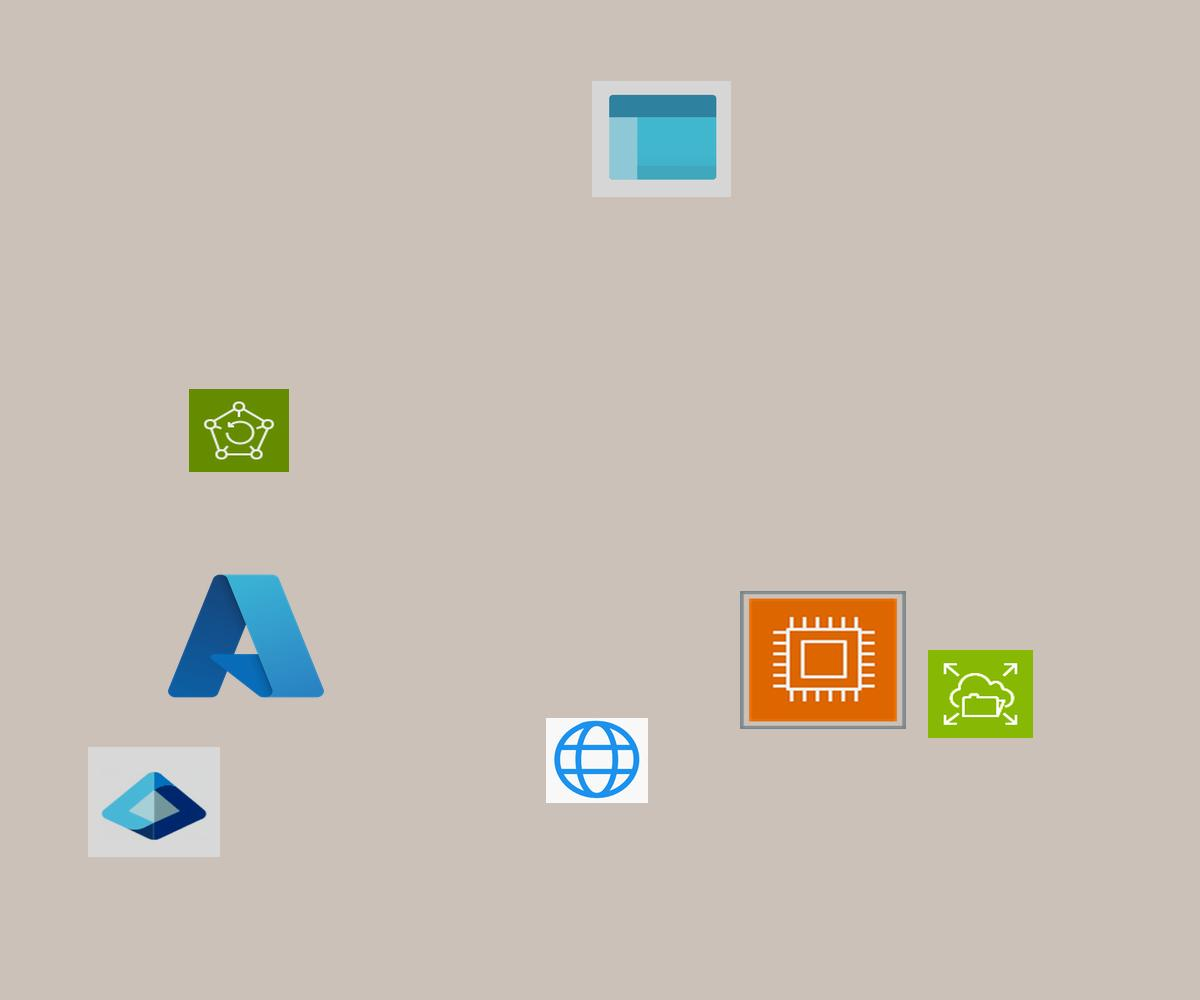AWS-Backup: (189, 389, 289, 472)
AWS-Category_Compute: (740, 591, 906, 729)
AWS-EFS: (928, 650, 1033, 738)
Azure_http: (546, 718, 648, 803)
Azure_management-portal: (592, 81, 731, 197)
Azure_microsoft_entra: (88, 747, 220, 857)
Azure_services: (161, 565, 331, 707)
